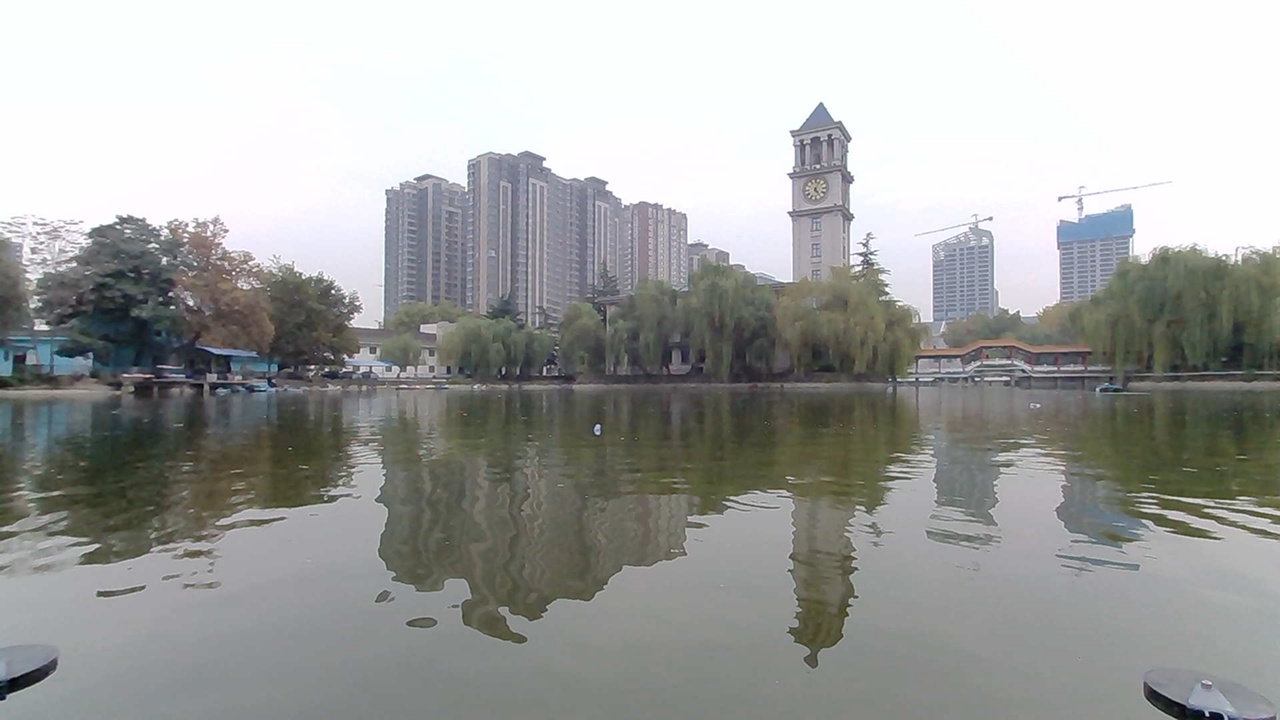bottle: (564, 409, 616, 441), (1024, 396, 1056, 415)
